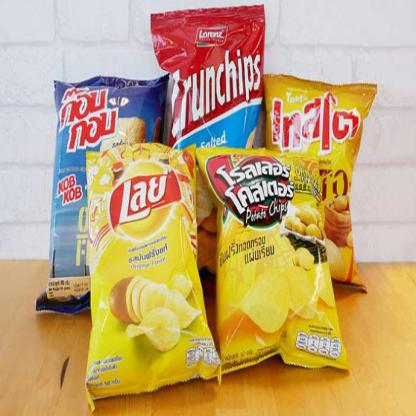potatochip: (193, 139, 350, 377), (83, 145, 222, 408), (43, 76, 178, 324), (149, 5, 268, 276), (261, 73, 378, 301)
